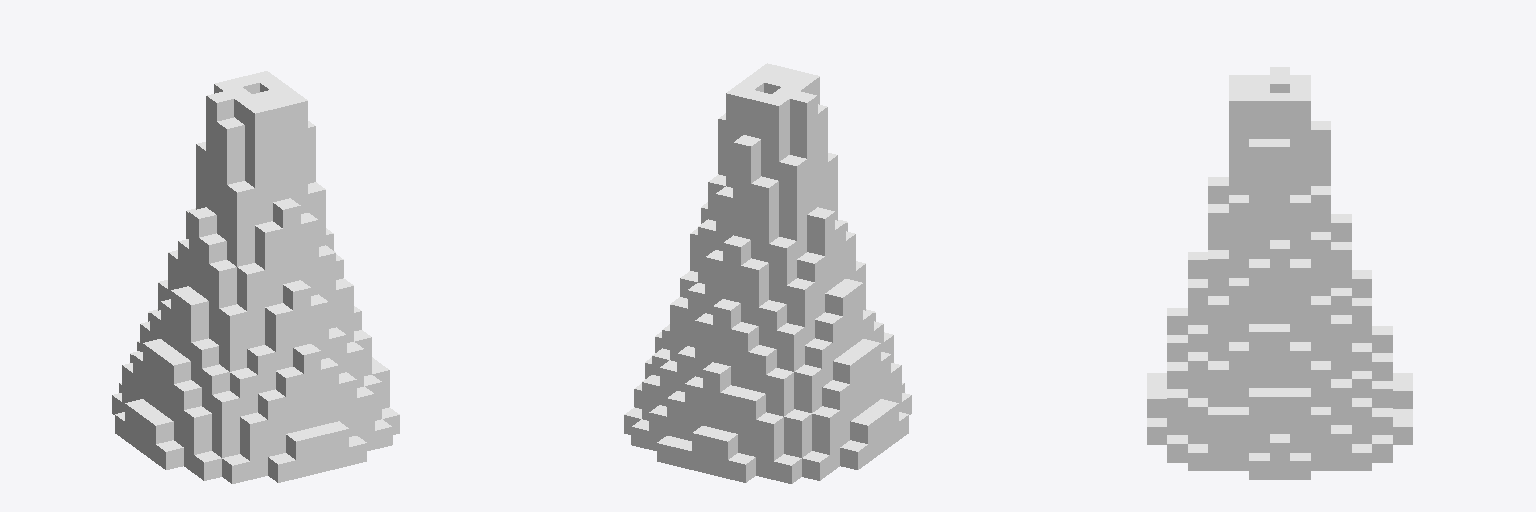
File: body.obj
The picture shows the model from 3 angles: view 1: azimuth 30°, elevation 25°; view 2: azimuth 150°, elevation 25°; view 3: azimuth 270°, elevation 25°; orthographic projection.
Parts seen in each view (by area): view 1: Crow; view 2: Crow; view 3: Crow.
Part boxes in pixels (x1,y1,x2,y2): Crow: (112,71,399,483); Crow: (624,63,911,483); Crow: (1147,67,1412,479).
Bounding box in the file's own units: 1.3 × 1.8 × 1.3.